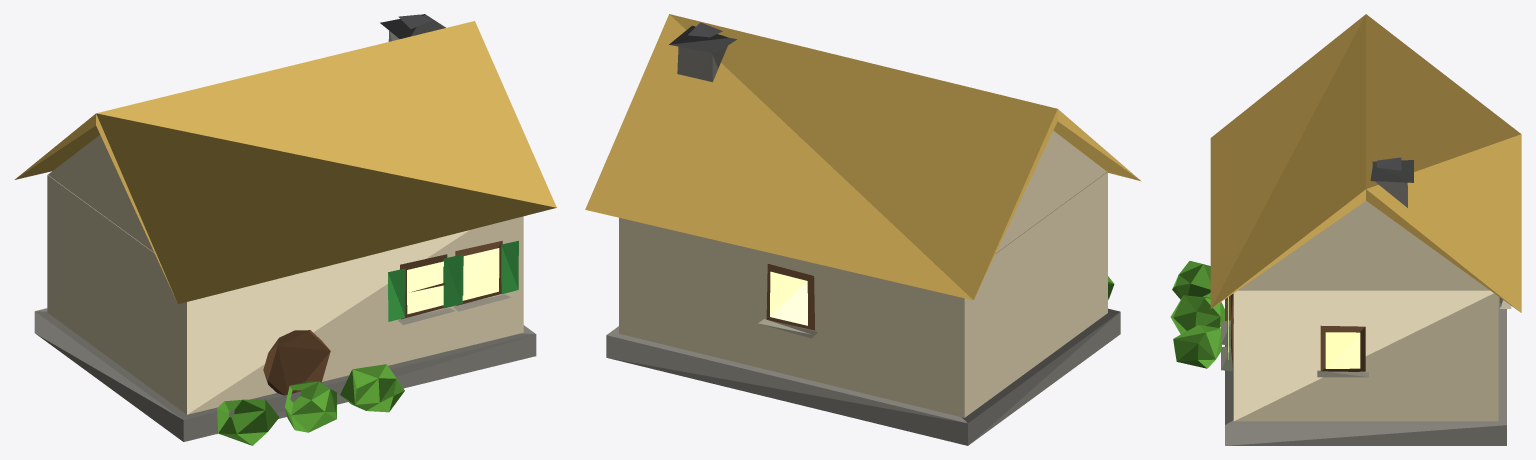
The model's file is hobbit_cottage_1_lod1.glb.
3 renders of one model, left to right at view 1: azimuth 30°, elevation 25°; view 2: azimuth 150°, elevation 25°; view 3: azimuth 270°, elevation 25°, orthographic. The views are drawn at different scales.
Visible parts, largest first — view 1: hobbit_cottage_1_lod1; view 2: hobbit_cottage_1_lod1; view 3: hobbit_cottage_1_lod1.
Part boxes in pixels (x1,y1,x2,y2): hobbit_cottage_1_lod1: [14, 14, 556, 445]; hobbit_cottage_1_lod1: [585, 14, 1141, 445]; hobbit_cottage_1_lod1: [1170, 14, 1521, 445].
Bounding box in the file's own units: 7.2 × 5.23 × 6.1.
